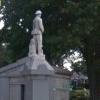Statue: (22, 6, 64, 72)
